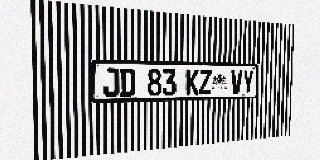3: (162, 69, 176, 96)
8: (147, 68, 162, 96)
D: (120, 68, 135, 97)
J: (103, 68, 119, 97)
K: (186, 69, 199, 95)
V: (231, 70, 242, 94)
Y: (242, 70, 254, 94)
Z: (199, 69, 212, 95)
